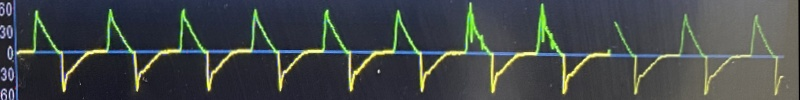hydrop_flow: (458, 2, 606, 99)
normal_flow: (14, 3, 451, 97), (661, 4, 789, 100)
